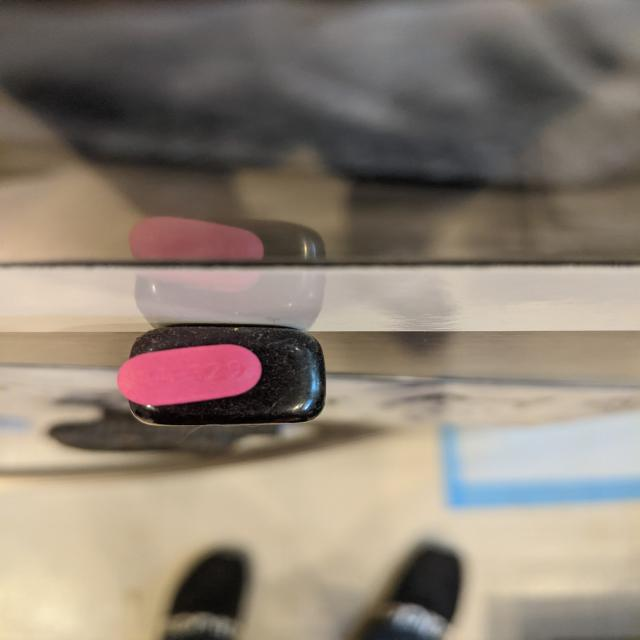non-organic waste: (116, 342, 264, 408)
